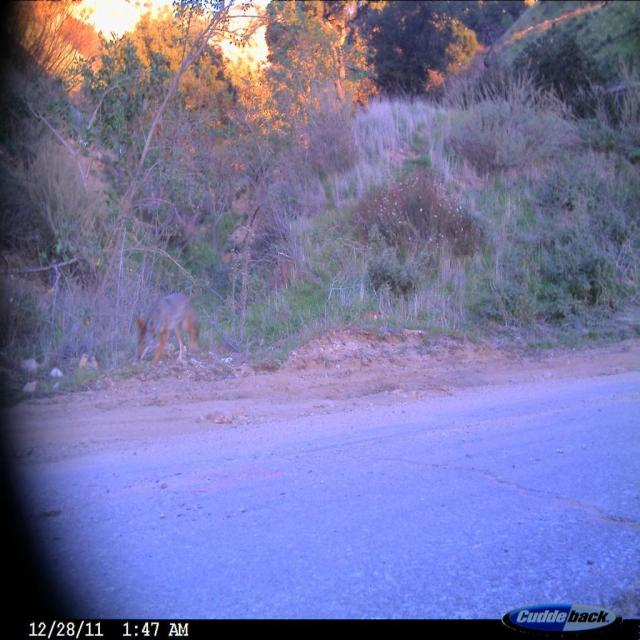coyote: (124, 284, 206, 370)
